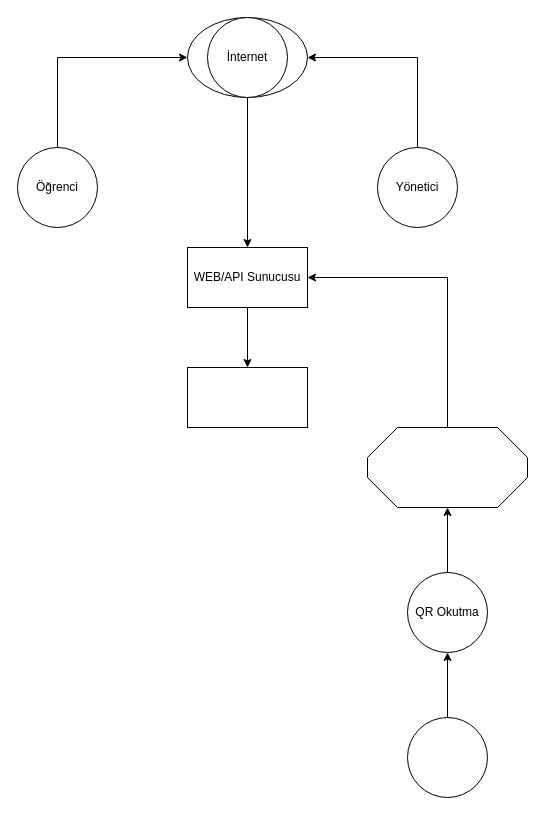
The diagram is 545 pixels wide and 815 high, and some of its shapes have lost their labels. Each missing label, with the centre of its shape:
"BLE Beacon" belongs at point (447, 757).
"Veritabanı(SQL) Suncusu" belongs at point (247, 397).
"Yurt Yerel Ağ" belongs at point (447, 467).
